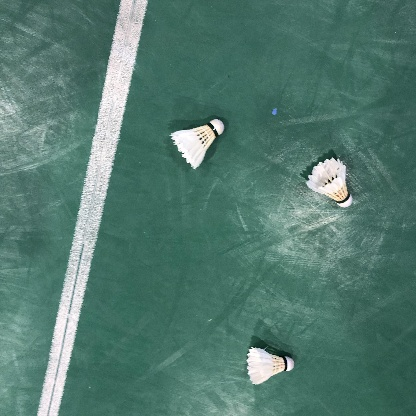ball_single: (170, 119, 225, 169), (306, 158, 352, 207), (246, 347, 294, 385)
